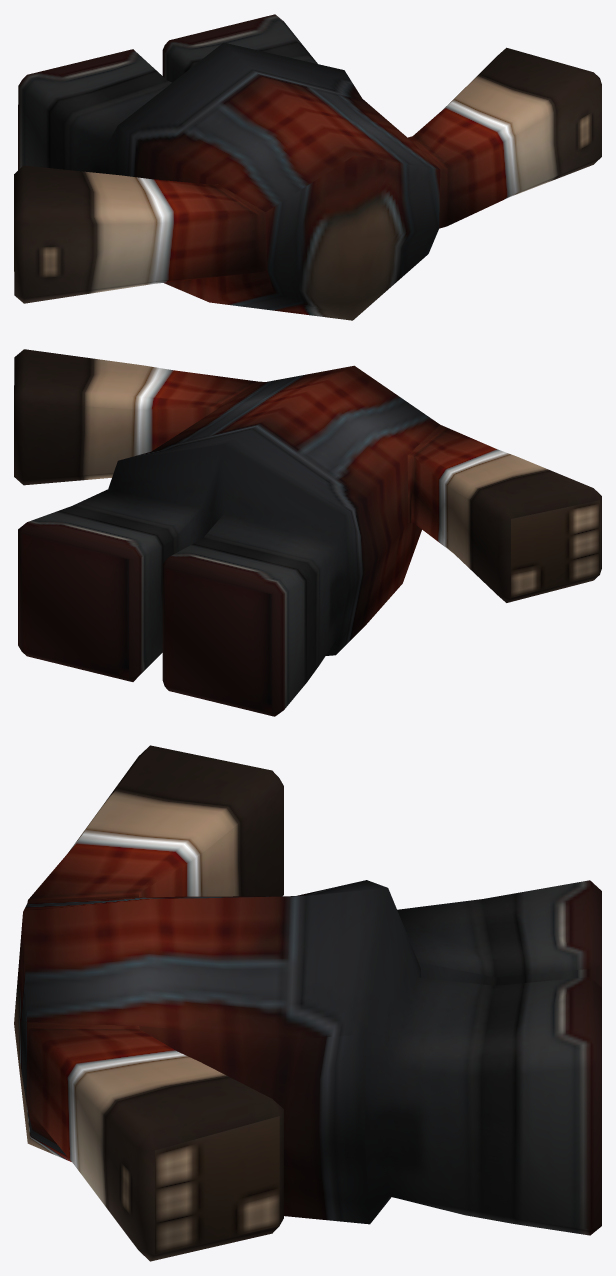
Rendered from Avatar_Joe_H_Body_0_6f702b15__Avatar_Joe_B_0d8e8e4e_c1f257.obj.
The picture shows the model from 3 angles, top to bottom: view 1: azimuth 30°, elevation 25°; view 2: azimuth 150°, elevation 25°; view 3: azimuth 270°, elevation 25°; orthographic projection. The views are drawn at different scales.
Size of the model in its own units: 1.41 by 0.504 by 0.882.
Materials: 1 (1 with a texture image).
